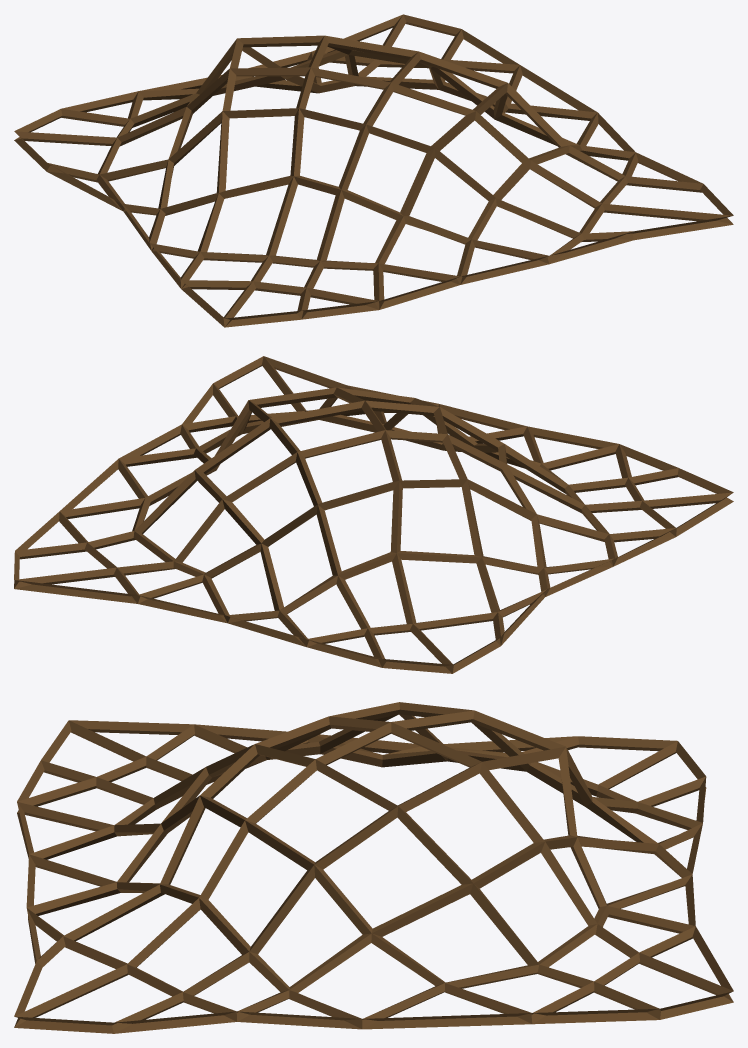
The model's file is net.fbx.
The picture shows the model from 3 angles, top to bottom: view 1: azimuth 30°, elevation 25°; view 2: azimuth 150°, elevation 25°; view 3: azimuth 270°, elevation 25°; orthographic projection. The views are drawn at different scales.
Visible parts, largest first — view 1: net; view 2: net; view 3: net.
Part boxes in pixels (<box>): net: <box>14,14,733,327</box>; net: <box>14,356,733,673</box>; net: <box>14,702,733,1033</box>.
Bounding box in the file's own units: 115 × 24.98 × 116.
